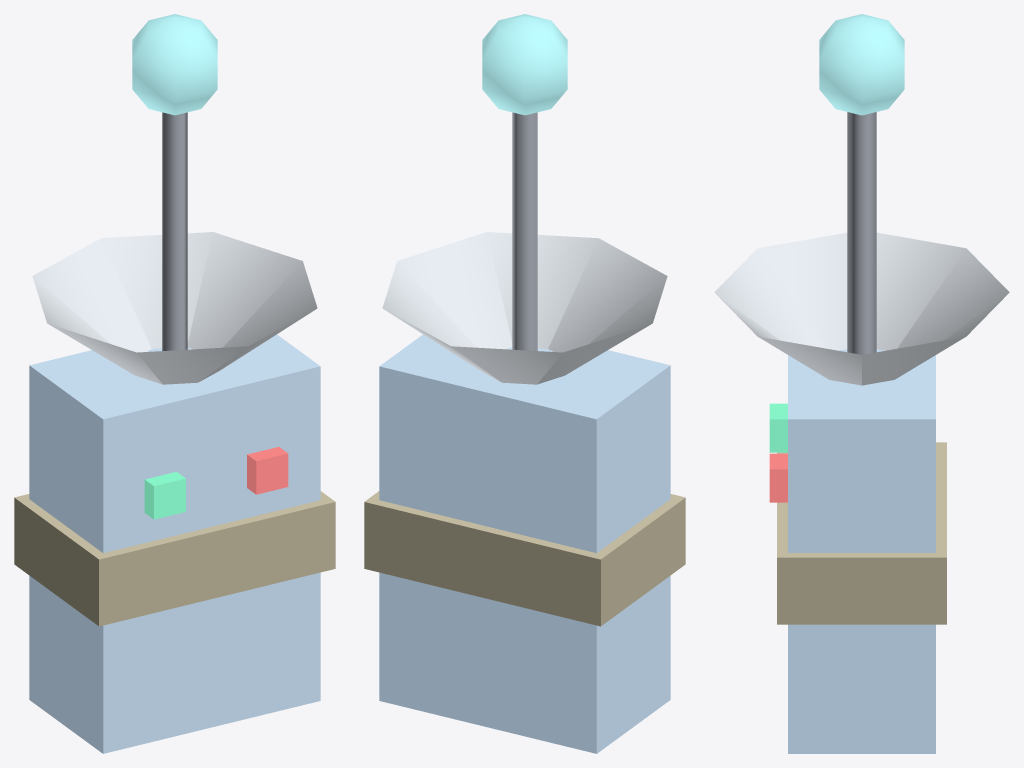
Rendered from joshdev.glb.
3 renders of one model, left to right at view 1: azimuth 30°, elevation 25°; view 2: azimuth 150°, elevation 25°; view 3: azimuth 270°, elevation 25°, orthographic.
Bounding box in the file's own units: 0.4 × 1.02 × 0.4.
